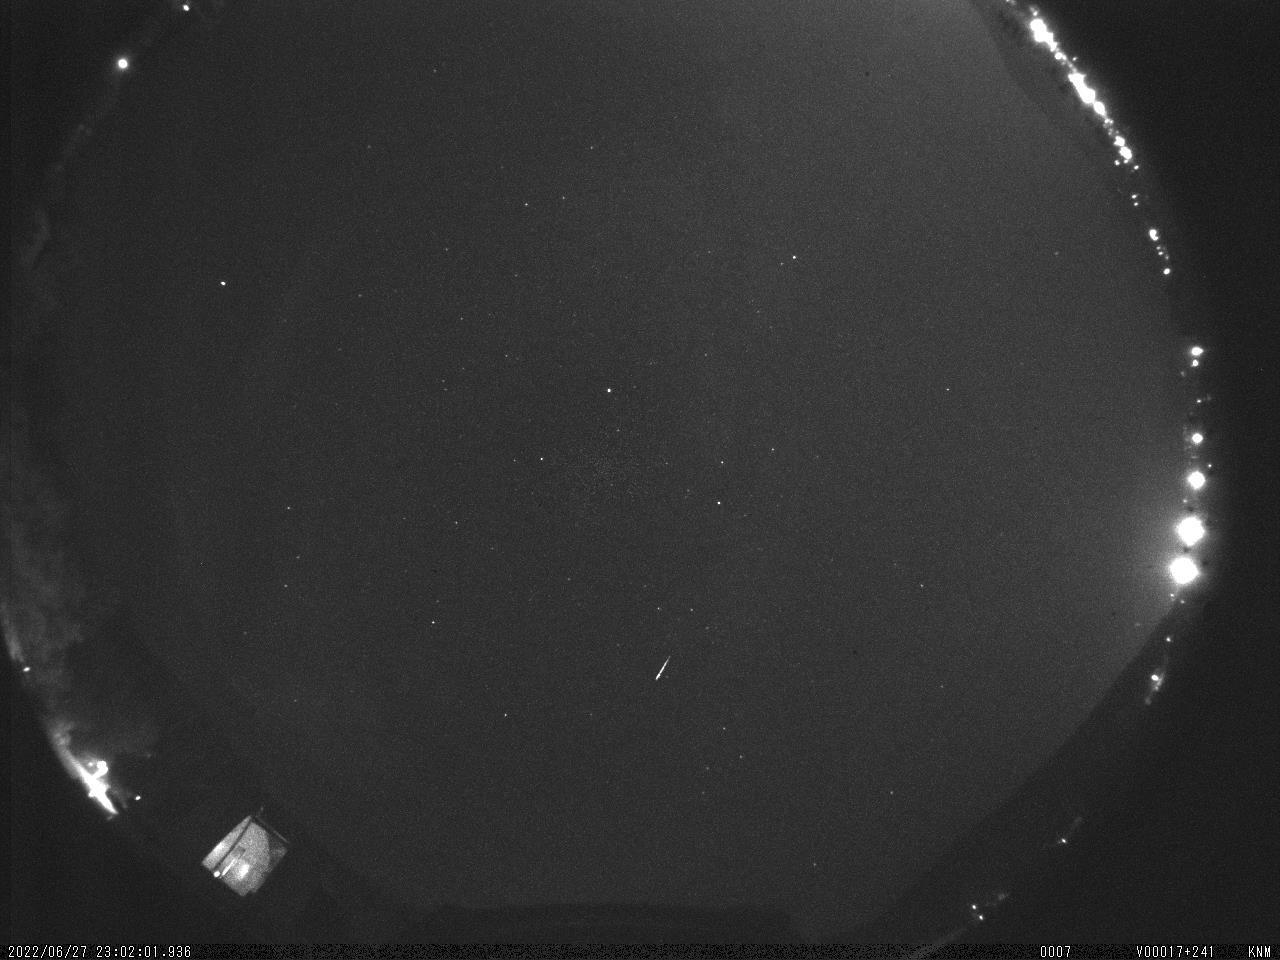Meteor: (651, 650, 674, 683)
